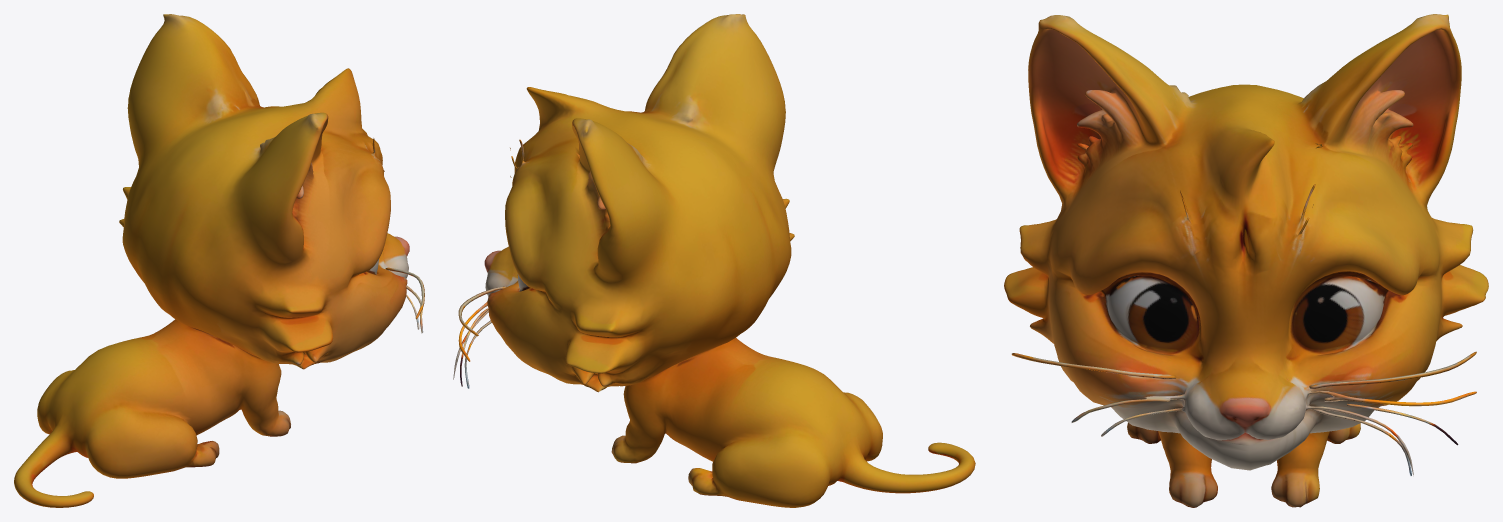
File: cat.fbx
3 views of the same model, side by side, from view 1: azimuth 30°, elevation 25°; view 2: azimuth 150°, elevation 25°; view 3: azimuth 270°, elevation 25° (orthographic). The views are drawn at different scales.
Visible parts, largest first — view 1: tripo_node_cf160890; view 2: tripo_node_cf160890; view 3: tripo_node_cf160890.
Part boxes in pixels (<box>): tripo_node_cf160890: <box>14,14,424,507</box>; tripo_node_cf160890: <box>453,14,975,507</box>; tripo_node_cf160890: <box>1004,14,1488,507</box>.
Bounding box in the file's own units: 99.96 × 81.5 × 74.84.
1 material, 1 textured.
